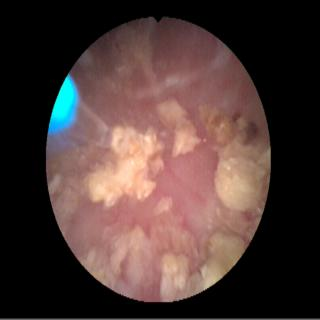fiber: (49, 77, 78, 134)
stone: (199, 108, 270, 212), (86, 125, 163, 205), (161, 233, 244, 300), (156, 97, 201, 158), (106, 225, 152, 283), (152, 197, 173, 216), (49, 174, 60, 193)
tissue: (48, 21, 264, 298)
